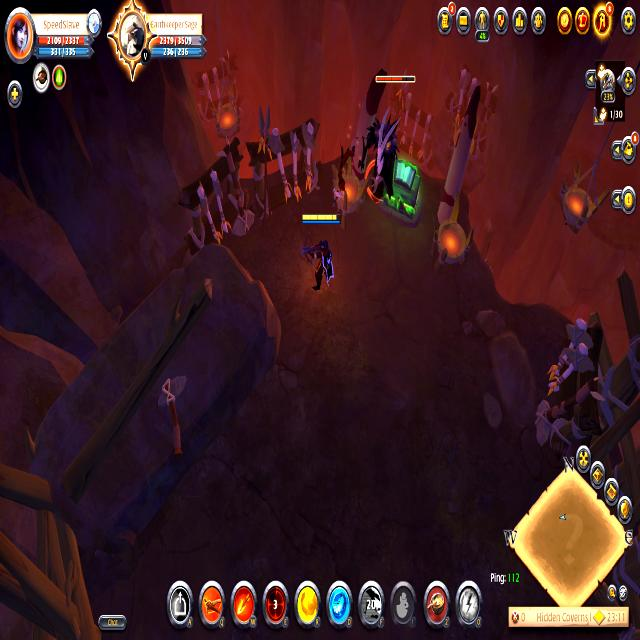ore: (363, 62, 422, 210)
red: (297, 210, 347, 298)
